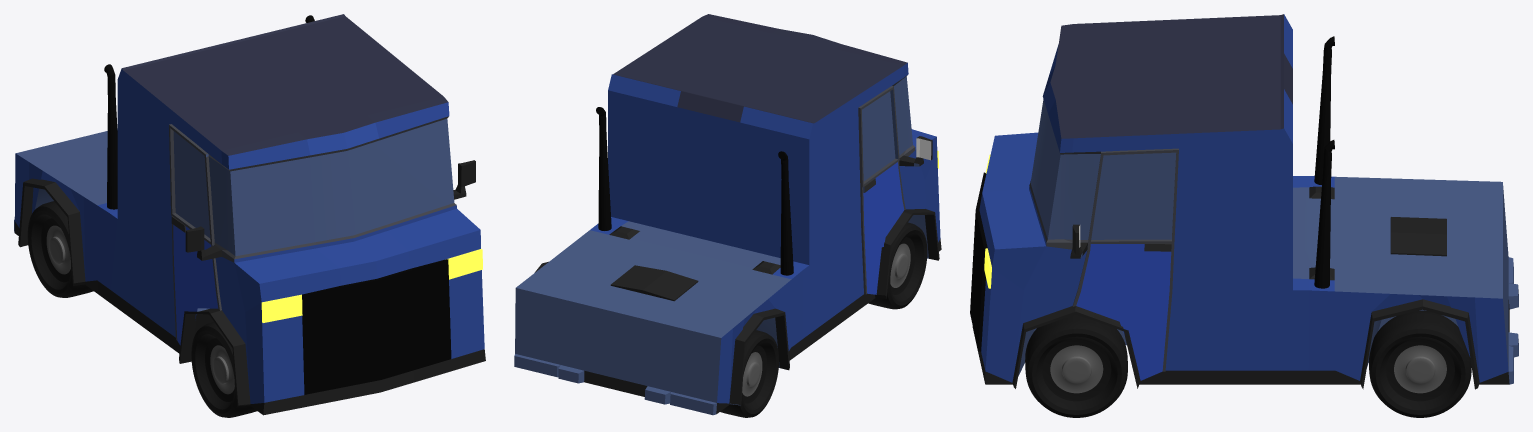
File: truck_low_poly_-_rigged.glb
3 views of the same model, side by side, from view 1: azimuth 30°, elevation 25°; view 2: azimuth 150°, elevation 25°; view 3: azimuth 270°, elevation 25° (orthographic). The views are drawn at different scales.
Visible parts, largest first — view 1: Truck_Base_3, Truck_RB_Tire_11, Truck_RF_Tire_7; view 2: Truck_Base_3, Truck_RB_Tire_11, Truck_RF_Tire_7; view 3: Truck_Base_3, Truck_LB_Tire_9, Truck_LF_Tire_5.
Part boxes in pixels (box(x1,y1,x2,y2)): Truck_Base_3: box(14, 14, 485, 415); Truck_RB_Tire_11: box(27, 201, 93, 297); Truck_RF_Tire_7: box(191, 322, 257, 417); Truck_Base_3: box(514, 14, 941, 415); Truck_RB_Tire_11: box(720, 330, 778, 417); Truck_RF_Tire_7: box(868, 222, 927, 309); Truck_Base_3: box(970, 14, 1518, 389); Truck_LB_Tire_9: box(1368, 310, 1471, 417); Truck_LF_Tire_5: box(1025, 314, 1127, 417).
Size of what is drawn, in the model's own units: 2.6 by 2.36 by 4.06.
